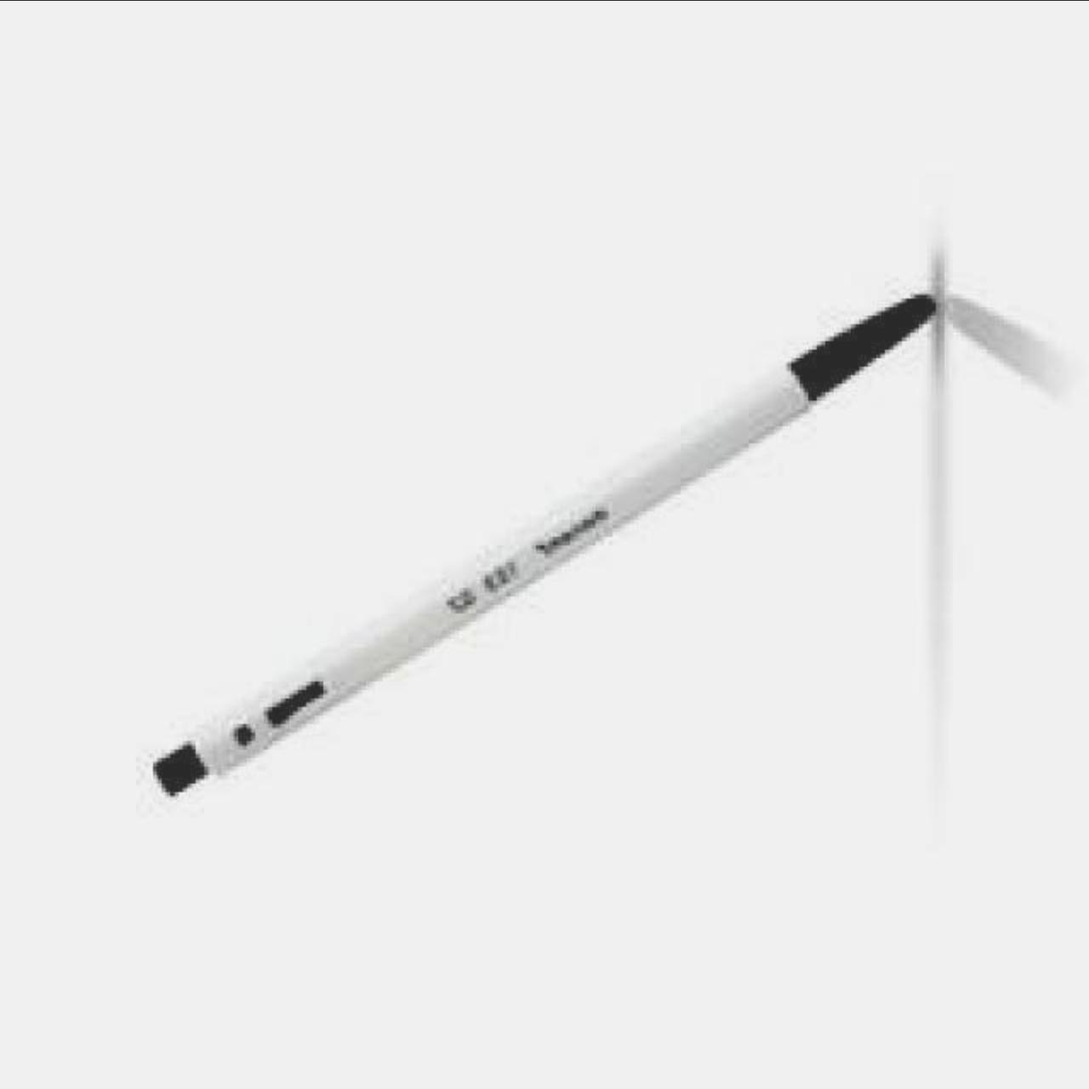pen: (153, 289, 941, 796)
